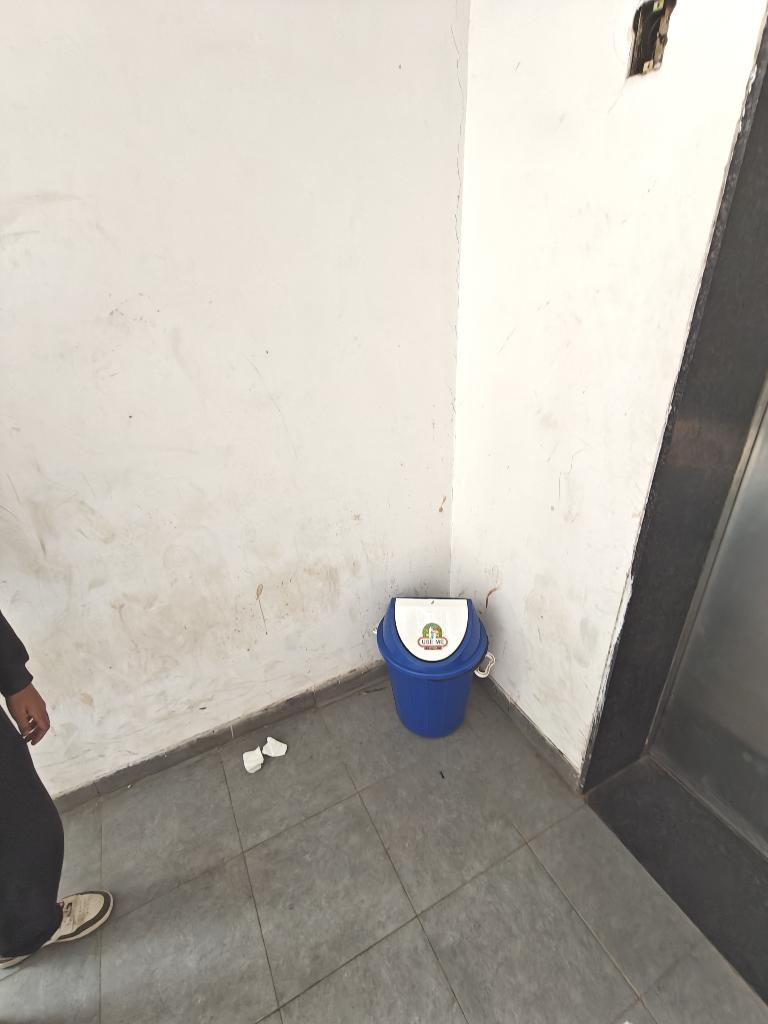dustbin: (373, 588, 503, 746)
